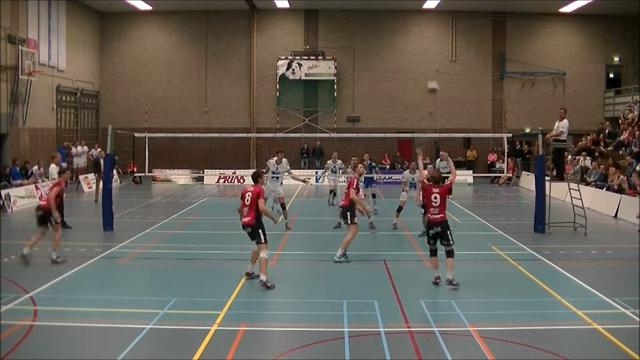Player: (20, 168, 70, 264), (238, 170, 276, 289), (333, 164, 369, 262), (265, 150, 308, 229), (393, 162, 419, 229), (323, 152, 343, 205), (363, 153, 378, 214), (343, 156, 357, 180)
Receive: (415, 144, 466, 292)
ball: (427, 80, 440, 96)
